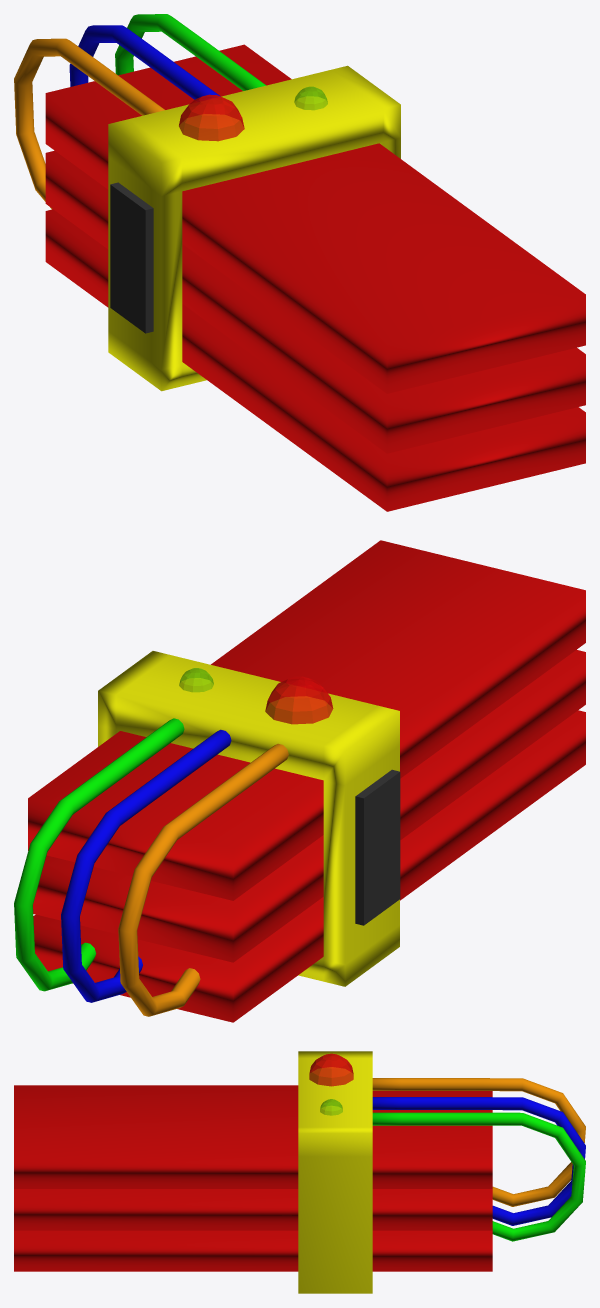
The model's file is Bomb.fbx.
The picture shows the model from 3 angles, top to bottom: view 1: azimuth 30°, elevation 25°; view 2: azimuth 150°, elevation 25°; view 3: azimuth 270°, elevation 25°; orthographic projection. The views are drawn at different scales.
Parts seen in each view (by area): view 1: C43, Detonator, C42, C41, TimerPlaceholder, Wire3, Wire1, Wire2, RedLight, GreenLight; view 2: C43, Detonator, C42, C41, Wire3, Wire1, Wire2, TimerPlaceholder, RedLight, GreenLight; view 3: C43, Detonator, C42, C41, Wire1, Wire3, Wire2, RedLight.
Boxes of the visible parts, box(x1,y1,x2,y2) form: C43: box(45, 44, 585, 393); Detonator: box(108, 65, 400, 391); C42: box(45, 150, 585, 453); C41: box(45, 209, 585, 511); TimerPlaceholder: box(110, 182, 153, 333); Wire3: box(14, 38, 165, 209); Wire1: box(115, 14, 266, 90); Wire2: box(69, 25, 220, 99); RedLight: box(179, 94, 244, 141); GreenLight: box(294, 86, 327, 110); C43: box(28, 540, 585, 900); Detonator: box(98, 651, 399, 986); C42: box(33, 649, 585, 962); C41: box(33, 710, 585, 1022); Wire3: box(118, 743, 288, 1016); Wire1: box(14, 718, 184, 991); Wire2: box(61, 729, 231, 1002); TimerPlaceholder: box(355, 769, 400, 925); RedLight: box(265, 676, 333, 724); GreenLight: box(179, 668, 213, 692); C43: box(14, 1085, 492, 1188); Detonator: box(298, 1051, 372, 1293); C42: box(14, 1189, 492, 1230); C41: box(14, 1230, 492, 1271); Wire1: box(372, 1112, 585, 1241); Wire3: box(372, 1078, 585, 1206); Wire2: box(372, 1097, 585, 1225); RedLight: box(309, 1053, 353, 1086).
Size of the model in its own units: 2.49 by 2.48 by 7.1.
